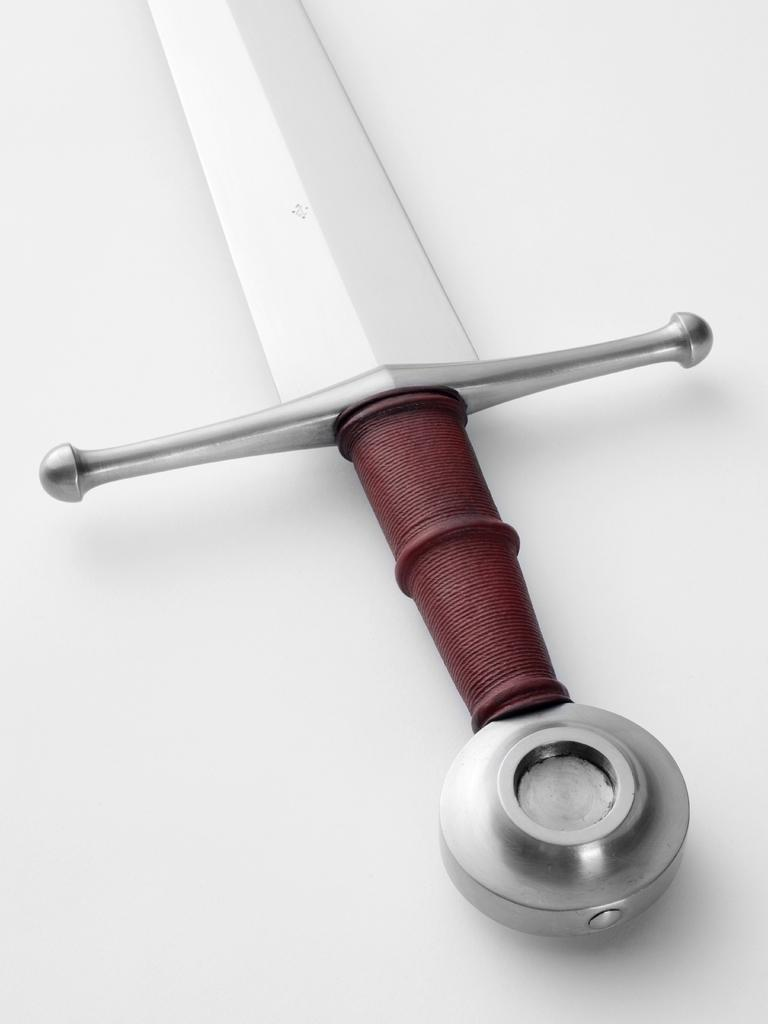Sword: (36, 0, 710, 940)
